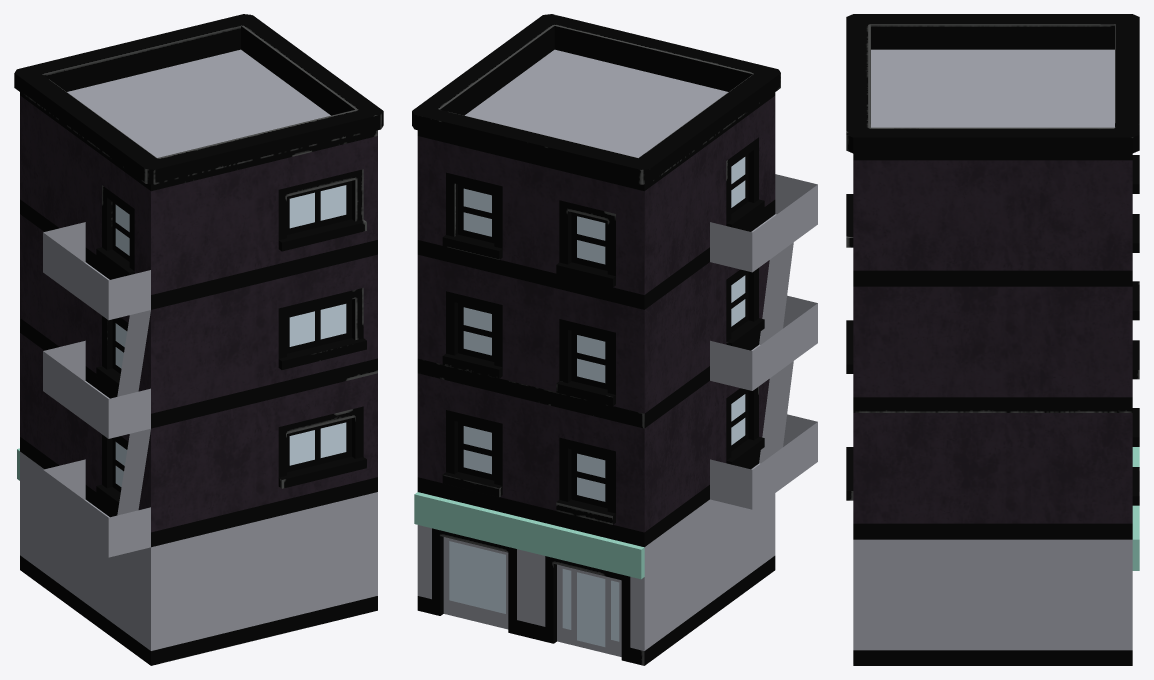
The model's file is large_buildingC1.fbx.
3 views of the same model, side by side, from view 1: azimuth 30°, elevation 25°; view 2: azimuth 150°, elevation 25°; view 3: azimuth 270°, elevation 25° (orthographic). The views are drawn at different scales.
Visible parts, largest first — view 1: large_buildingC; view 2: large_buildingC; view 3: large_buildingC.
Boxes of the visible parts, bbox=[...] form: large_buildingC: bbox=[14, 14, 383, 665]; large_buildingC: bbox=[412, 14, 817, 665]; large_buildingC: bbox=[846, 14, 1139, 665].
Size of the model in its own units: 97 by 168 by 84.
